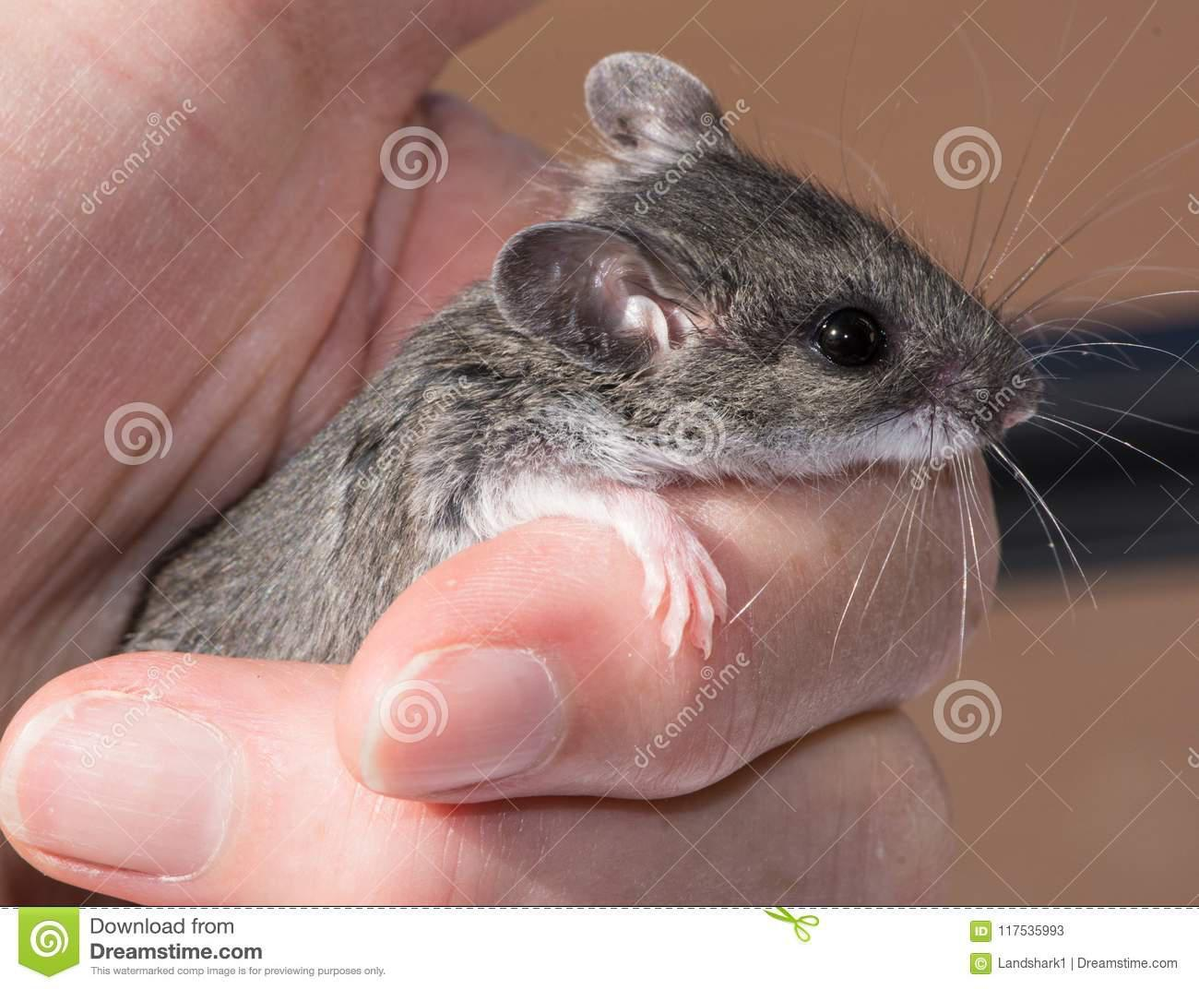rat: (128, 52, 1054, 655)
